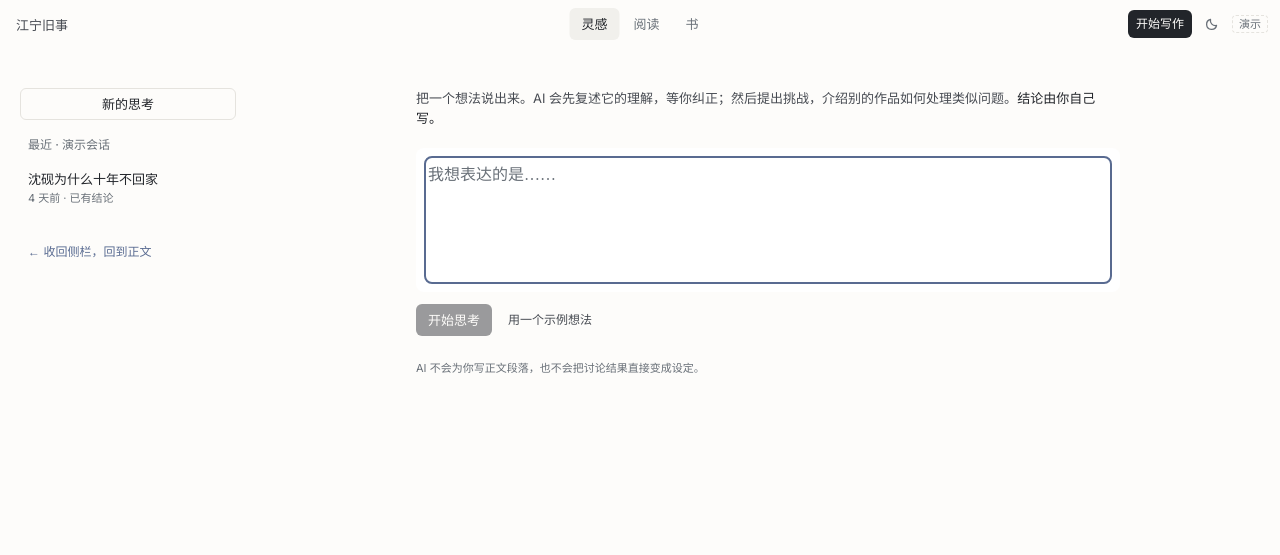
Test case: Writer Agent studio › supports author correction of a clearly labeled demo understanding
Click the tab "灵感" at {"x": 594, "y": 24}, box [570, 8, 620, 40]
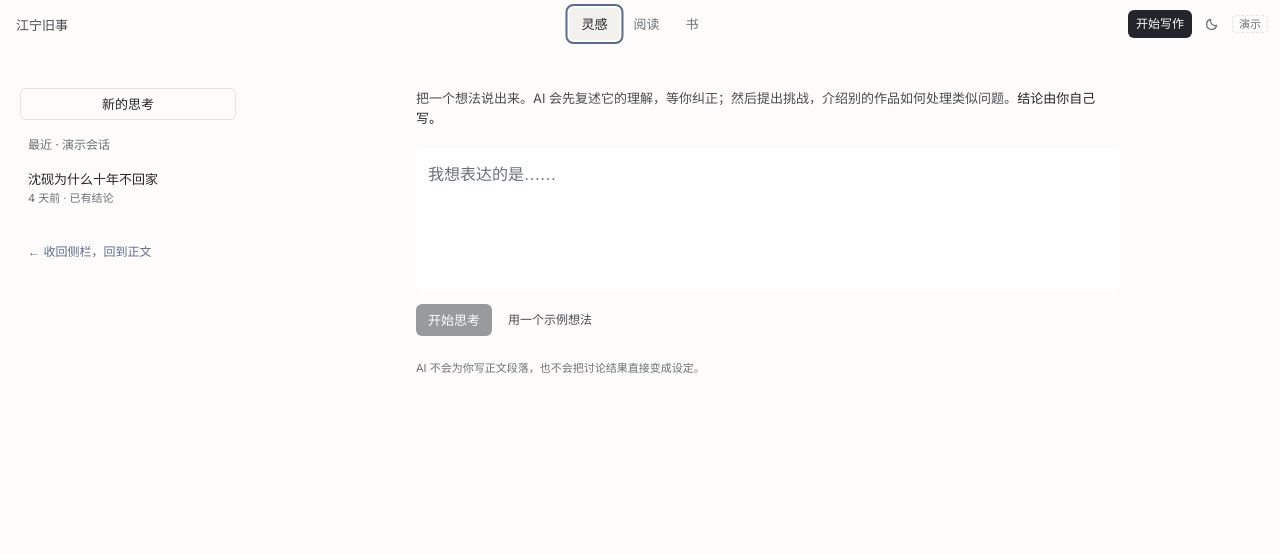
Type "测试想法" into the text box named "你的想法" at {"x": 768, "y": 220}, box [428, 160, 1108, 280]
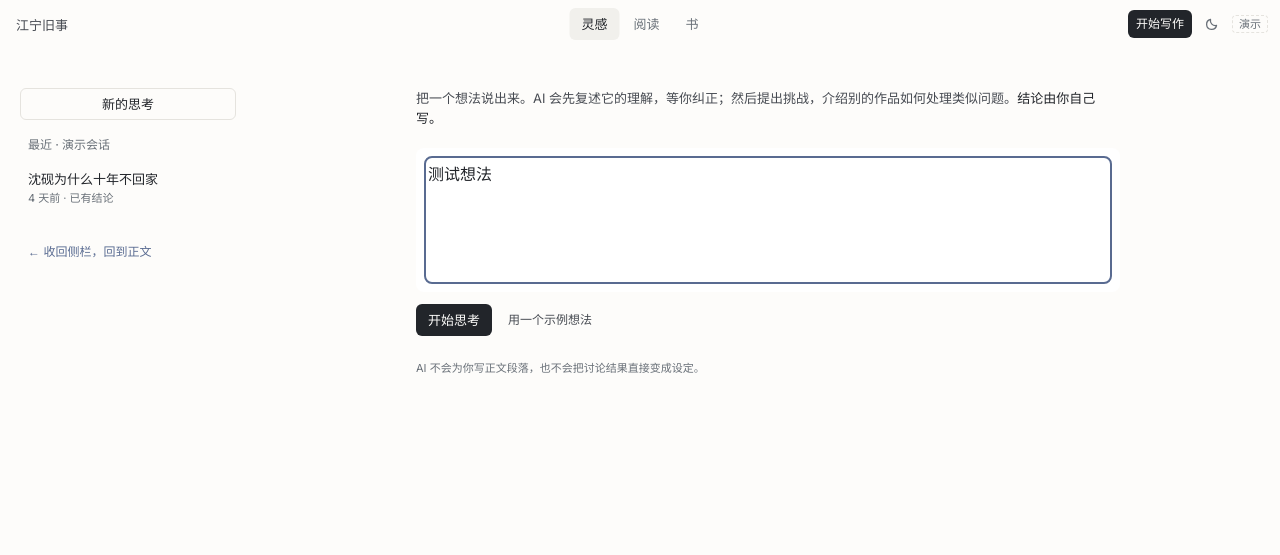
Click the button "开始思考" at {"x": 454, "y": 320}, box [416, 304, 492, 336]
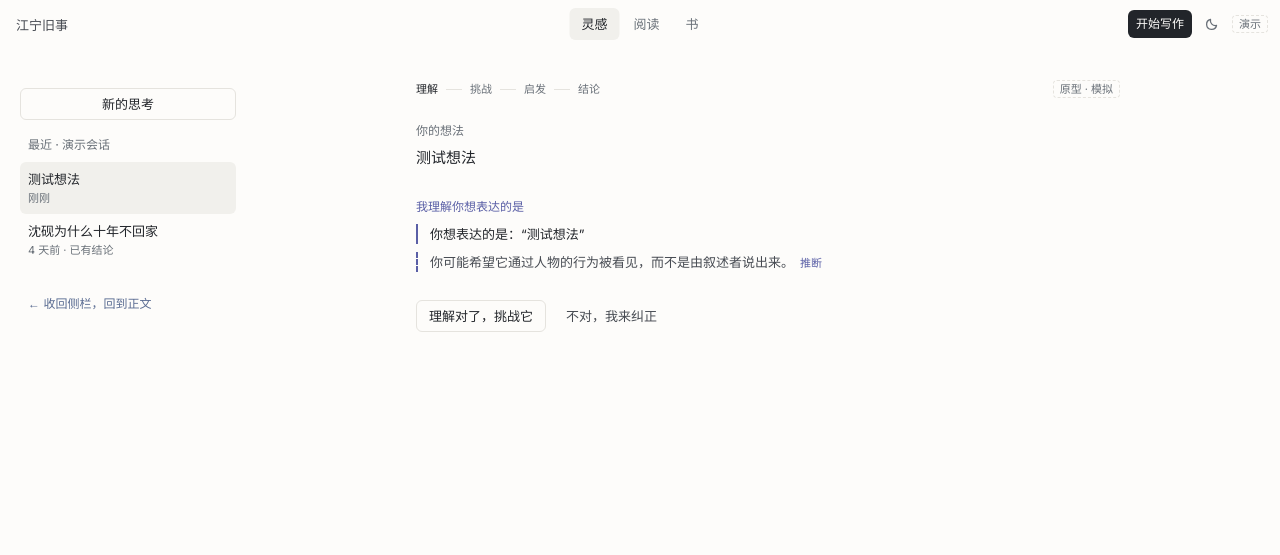
Click the button "不对，我来纠正" at {"x": 612, "y": 316}, box [554, 300, 669, 332]
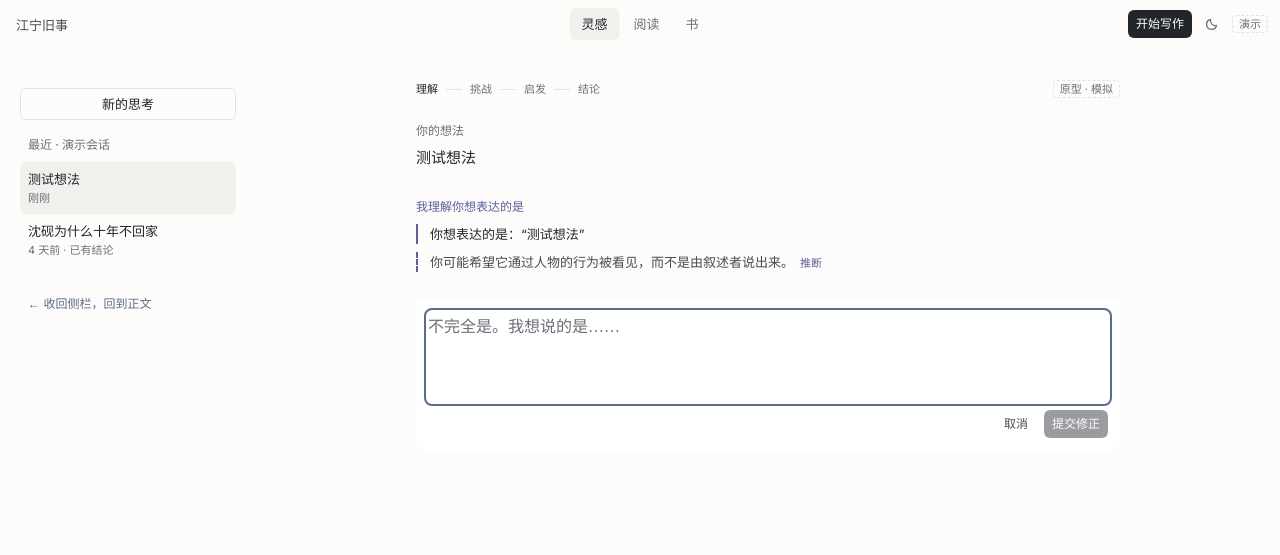
Type "作者的纠正" into the text box named "纠正 AI 的理解" at {"x": 768, "y": 357}, box [428, 312, 1108, 402]
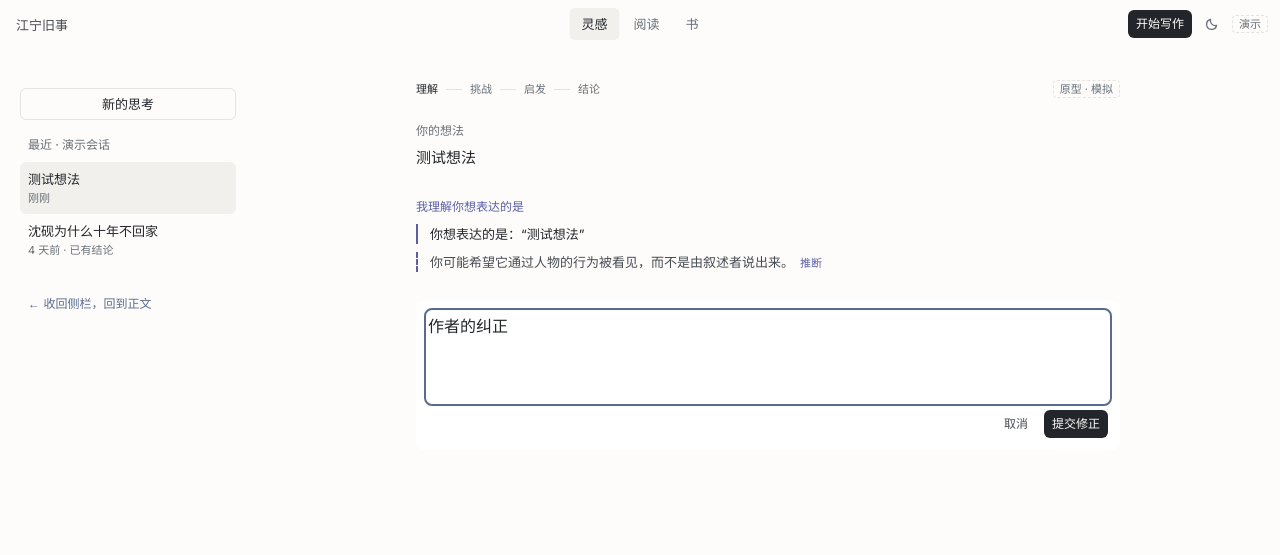
Click the button "提交修正" at {"x": 1076, "y": 424}, box [1044, 410, 1108, 438]
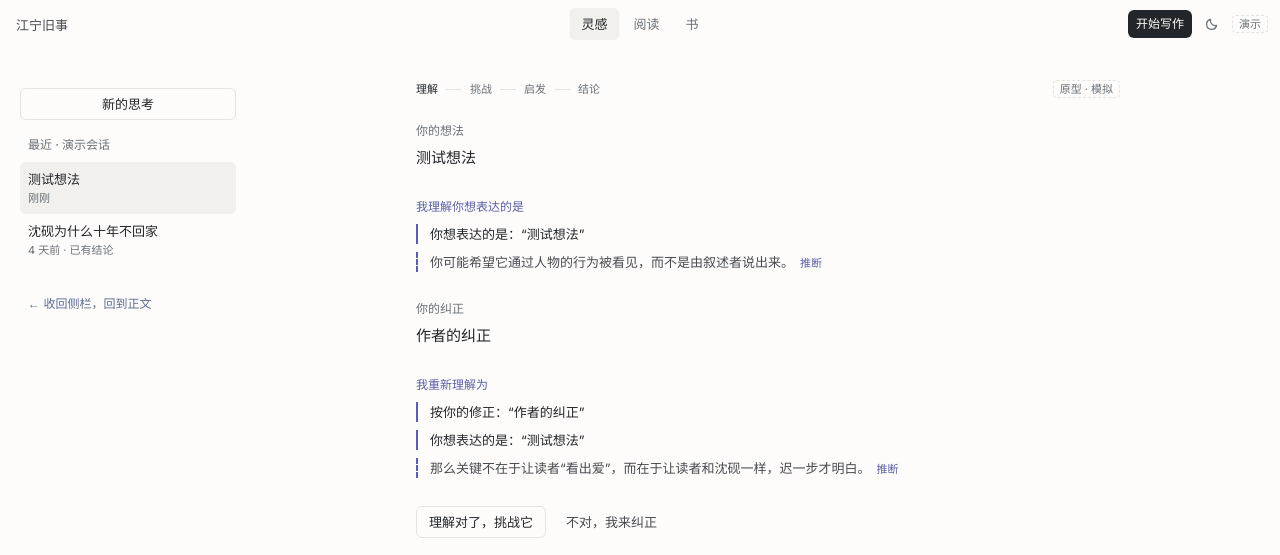
Expected: the text "我重新理解为" is shown, [416, 377, 488, 392]
Expected: the heading "你的纠正" is shown, [416, 301, 464, 316]
